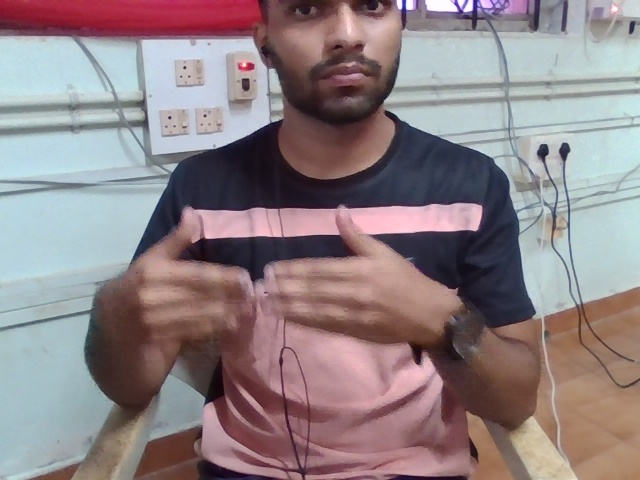more: (103, 193, 431, 390)
